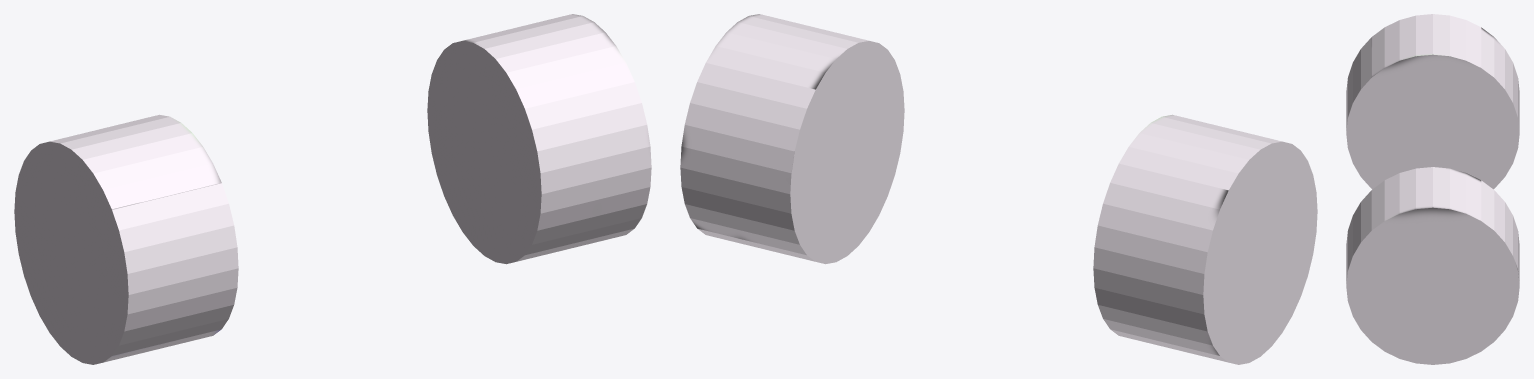
Rendered from player_Back.obj.
3 views of the same model, side by side, from view 1: azimuth 30°, elevation 25°; view 2: azimuth 150°, elevation 25°; view 3: azimuth 270°, elevation 25° (orthographic). The views are drawn at different scales.
Parts seen in each view (by area): view 1: 円柱.001; view 2: 円柱.001; view 3: 円柱.001.
Part boxes in pixels (bbox=[...]): 円柱.001: bbox=[14, 14, 651, 364]; 円柱.001: bbox=[680, 14, 1317, 364]; 円柱.001: bbox=[1346, 14, 1519, 364].
Size of the model in its own units: 2.38 by 0.9 by 0.9.
